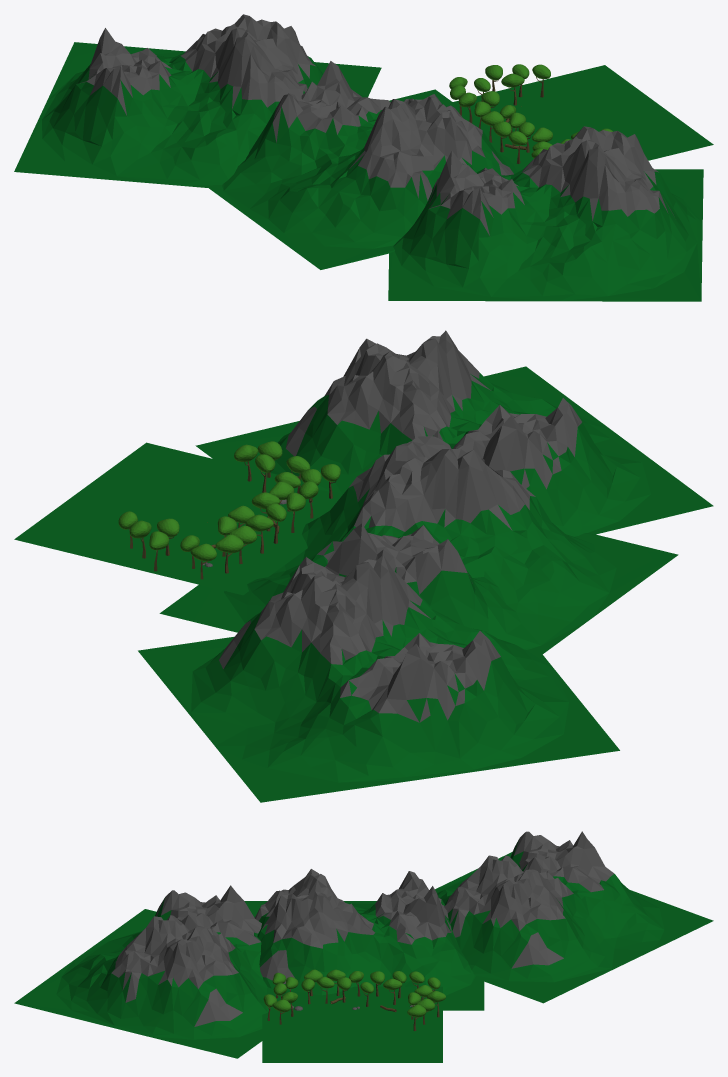
The model's file is Egg enviroment.fbx.
3 views of the same model, one above another, from view 1: azimuth 30°, elevation 25°; view 2: azimuth 150°, elevation 25°; view 3: azimuth 270°, elevation 25° (orthographic). The views are drawn at different scales.
Parts seen in each view (by area): view 1: Landscape.004, Landscape.005, Landscape.003, Plane; view 2: Landscape.005, Landscape.003, Landscape.004, Plane; view 3: Landscape.005, Landscape.004, Landscape.003, Plane.
Part boxes in pixels (bbox=[...]): Landscape.004: bbox=[388, 126, 703, 301]; Landscape.005: bbox=[14, 14, 381, 187]; Landscape.003: bbox=[209, 61, 517, 269]; Plane: bbox=[443, 65, 713, 171]; Landscape.005: bbox=[138, 555, 619, 802]; Landscape.003: bbox=[159, 430, 678, 654]; Landscape.004: bbox=[195, 330, 713, 536]; Plane: bbox=[14, 442, 342, 595]; Landscape.005: bbox=[435, 831, 713, 1003]; Landscape.004: bbox=[14, 885, 269, 1058]; Landscape.003: bbox=[244, 869, 484, 1010]; Plane: bbox=[262, 986, 442, 1062].
Bounding box in the file's own units: 50604 × 8614 × 67974.
